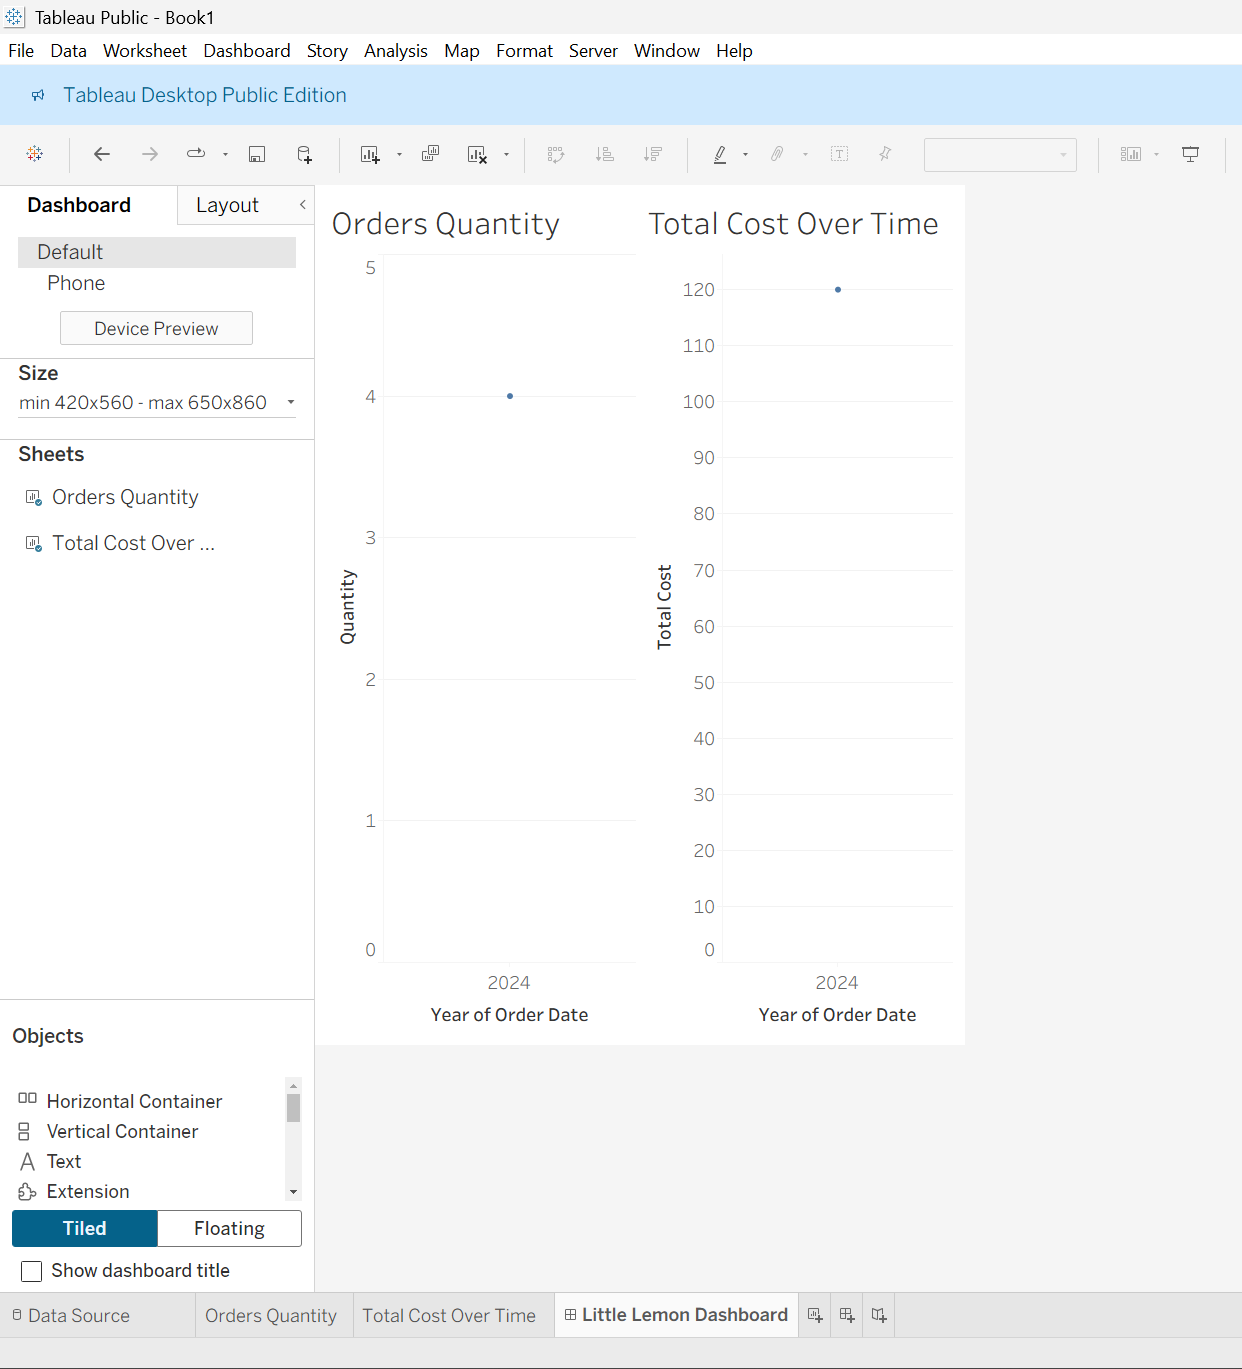

What the dashboard file says about the page in this screenshot:
{"tool":"tableau","page":{"name":"Little Lemon Dashboard","canvas":[650,860],"ordinal":0},"visuals":[{"type":"worksheet","title":"Orders Quantity","mark":"Automatic","rows":["Quantity"],"cols":["OrderDate"],"box":[8,8,317,844]},{"type":"worksheet","title":"Total Cost Over Time","mark":"Automatic","rows":["TotalCost"],"cols":["OrderDate"],"box":[325,8,317,844]}]}

Visuals, with their boxes on the page's 650x860 design canvas (x1, y1, x2, y2). These are canvas units, not pixel positions in the 1242x1369 screenshot, which may show the page scaled, cropped or inside an application window:
"Orders Quantity" worksheet: x1=8, y1=8, x2=325, y2=852
"Total Cost Over Time" worksheet: x1=325, y1=8, x2=642, y2=852
